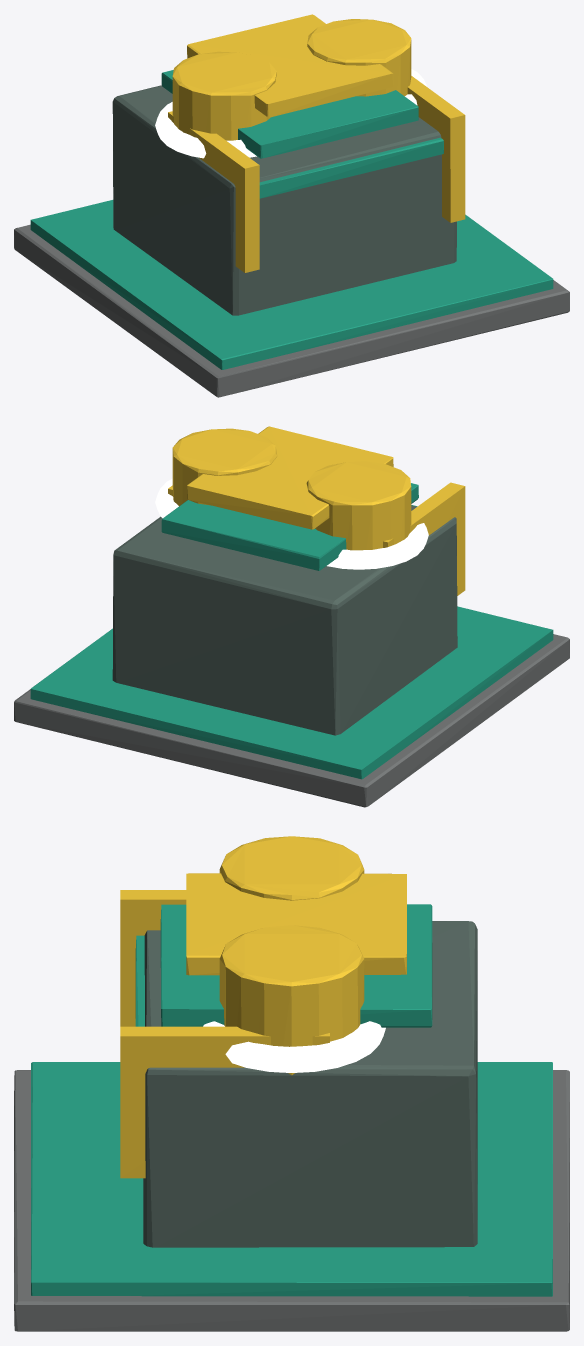
Rendered from SM_Coalition_CO_PowerPlant_LOD1.fbx.
The picture shows the model from 3 angles, top to bottom: view 1: azimuth 30°, elevation 25°; view 2: azimuth 150°, elevation 25°; view 3: azimuth 270°, elevation 25°; orthographic projection. The views are drawn at different scales.
Visible parts, largest first — view 1: LOD01_SM_Coalition_CO_PowerPlant; view 2: LOD01_SM_Coalition_CO_PowerPlant; view 3: LOD01_SM_Coalition_CO_PowerPlant.
Boxes of the visible parts, x1=… form: LOD01_SM_Coalition_CO_PowerPlant: x1=14, y1=14, x2=569, y2=397; LOD01_SM_Coalition_CO_PowerPlant: x1=14, y1=426, x2=569, y2=807; LOD01_SM_Coalition_CO_PowerPlant: x1=14, y1=836, x2=569, y2=1331.
Bounding box in the file's own units: 599 × 599 × 364.
